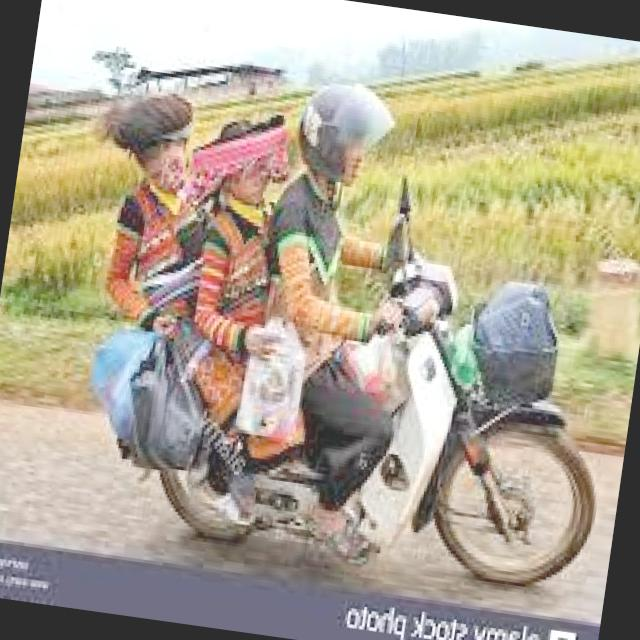motorcycle: (71, 215, 629, 600)
person: (235, 74, 402, 497), (150, 96, 321, 436), (67, 80, 214, 433)
rider_region: (65, 55, 635, 586)
